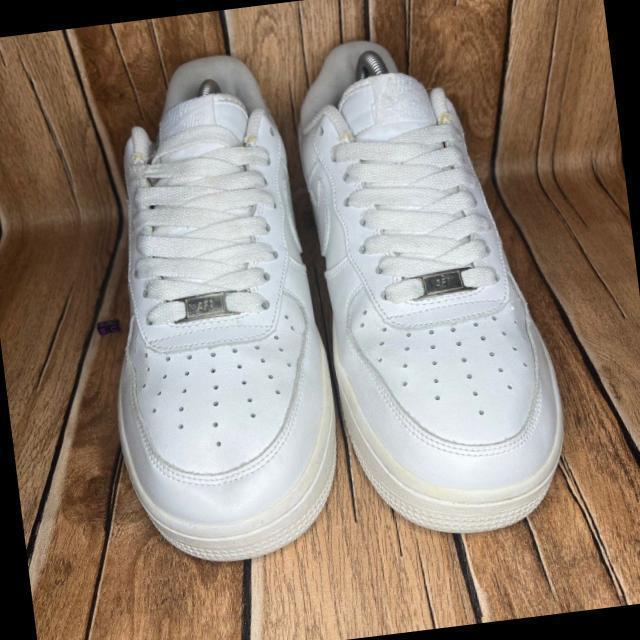nike fake air force: (283, 15, 582, 548), (71, 45, 347, 574)
